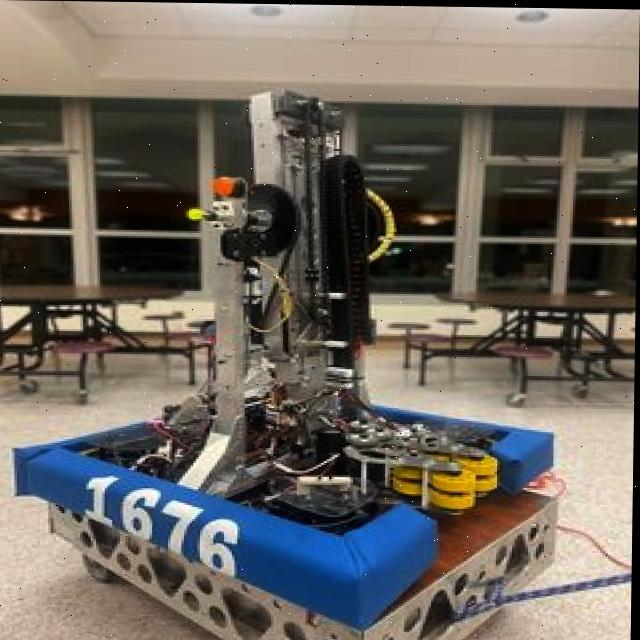robot: (14, 84, 569, 632)
